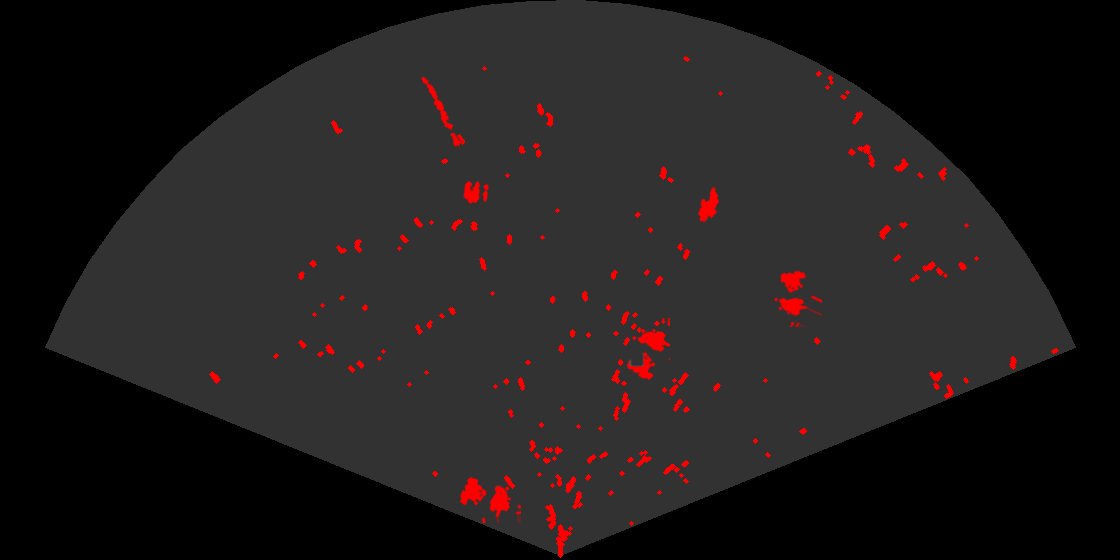AUV: (696, 185, 721, 224)
ball: (462, 179, 490, 205)
cage: (458, 475, 521, 523), (625, 318, 670, 382), (773, 269, 822, 327)
chain: (420, 75, 463, 151)
